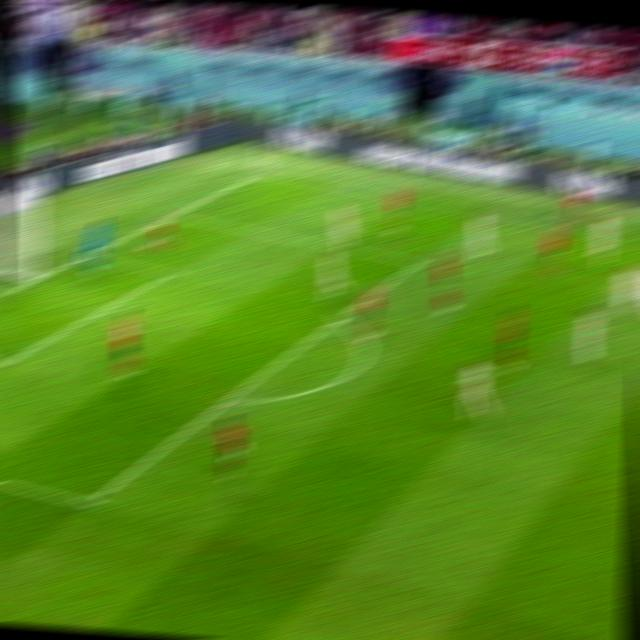bigarea_bottom_inner: (76, 490, 104, 516)
bigarea_top_inner: (407, 251, 430, 272)
bigarea_top_outter: (163, 206, 186, 223)
bottom_arc_area_intersection: (216, 391, 240, 412)
corner: (250, 166, 276, 181)
smallarea_bottom_inner: (0, 356, 11, 381)
smallarea_top_inner: (158, 264, 183, 281)
smallarea_top_outter: (78, 248, 100, 265)
top_arc_area_intersection: (329, 308, 354, 328)
